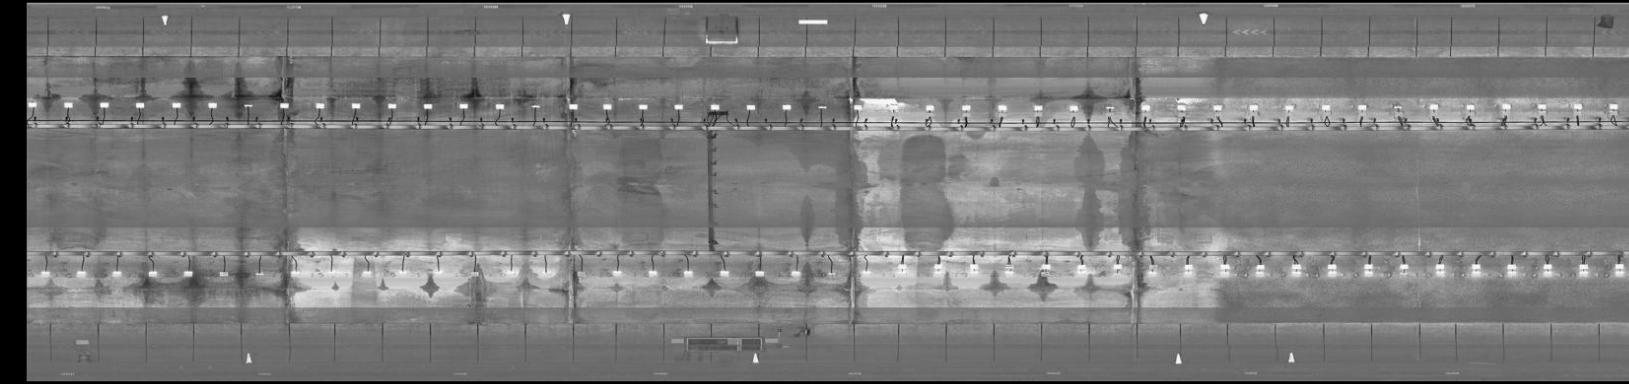light: (1319, 260, 1341, 281), (1104, 260, 1132, 276), (1356, 260, 1378, 280), (1396, 260, 1419, 278), (1285, 260, 1305, 279), (34, 266, 56, 282), (570, 266, 592, 282), (1313, 98, 1335, 114), (1175, 262, 1198, 277), (1002, 260, 1021, 278), (1216, 262, 1235, 279), (417, 99, 437, 115), (1430, 260, 1450, 277), (212, 267, 234, 282), (1465, 260, 1487, 276), (108, 265, 127, 282), (1031, 100, 1049, 117), (1251, 263, 1270, 280), (883, 100, 904, 115), (1133, 100, 1154, 115), (1070, 262, 1092, 276), (1144, 264, 1163, 280), (1384, 100, 1407, 113), (142, 266, 163, 280), (500, 266, 520, 280), (1208, 102, 1229, 116), (1537, 260, 1560, 273), (179, 269, 201, 282), (1038, 260, 1056, 277), (359, 265, 378, 280), (678, 267, 697, 282), (894, 263, 913, 278), (1610, 262, 1629, 277), (311, 99, 330, 113), (1573, 263, 1593, 277), (1530, 101, 1553, 113), (465, 267, 486, 280), (1495, 102, 1516, 115), (1602, 100, 1623, 113), (348, 98, 365, 114), (168, 98, 186, 113), (1066, 100, 1084, 115), (1173, 101, 1189, 118), (1354, 100, 1371, 115), (1502, 262, 1520, 277), (642, 266, 661, 280), (920, 101, 939, 115), (537, 267, 557, 280), (786, 267, 806, 280), (1244, 100, 1263, 113), (1280, 102, 1300, 115), (252, 265, 269, 280), (714, 268, 735, 280), (966, 260, 982, 277), (238, 99, 257, 112), (562, 100, 581, 113), (743, 100, 762, 113), (957, 102, 976, 115), (1461, 102, 1480, 114), (610, 266, 626, 280), (930, 260, 946, 275), (995, 103, 1012, 117), (97, 99, 112, 113), (277, 98, 293, 112), (73, 266, 88, 280), (491, 101, 511, 112), (1425, 100, 1442, 113), (392, 266, 412, 276), (454, 101, 473, 112), (669, 100, 688, 111), (599, 100, 615, 113), (1571, 100, 1586, 113), (204, 99, 220, 111), (429, 264, 446, 276), (287, 267, 304, 278), (634, 101, 651, 112), (752, 268, 767, 281), (1102, 102, 1117, 115), (60, 99, 76, 111), (384, 101, 400, 113), (322, 266, 339, 277), (776, 103, 794, 113), (132, 99, 146, 111), (824, 269, 840, 279), (859, 268, 876, 278), (851, 103, 867, 113), (27, 99, 42, 110), (705, 102, 722, 111), (814, 103, 829, 113), (528, 102, 543, 111)
